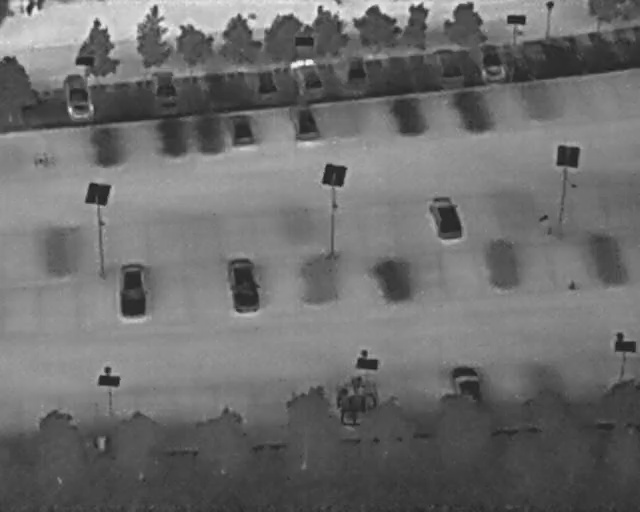Bicycle: (23, 0, 35, 17), (36, 0, 45, 12)
Car: (222, 253, 266, 316), (115, 259, 153, 324), (426, 190, 466, 245), (59, 69, 95, 124), (448, 359, 485, 411), (289, 53, 327, 100), (146, 66, 181, 114), (473, 38, 507, 82), (433, 45, 464, 84), (292, 103, 321, 143), (342, 51, 369, 90), (229, 110, 256, 148), (253, 65, 280, 99)
